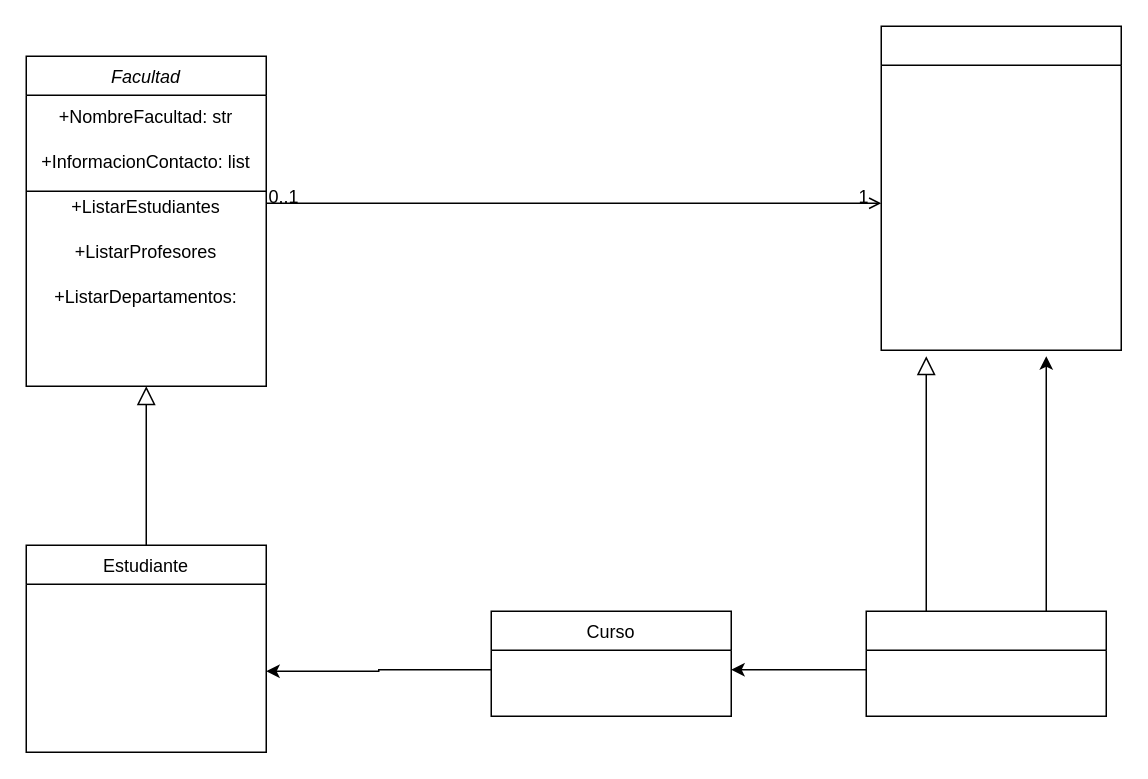
The diagram is 1148 pixels wide and 779 high, and some of its shapes have lost their labels. The shapes that lost their labels are listed below. From the top down, each one's centre as x and y in pixels, then its label:
point (1000, 187): Departamento
point (985, 663): Professor
